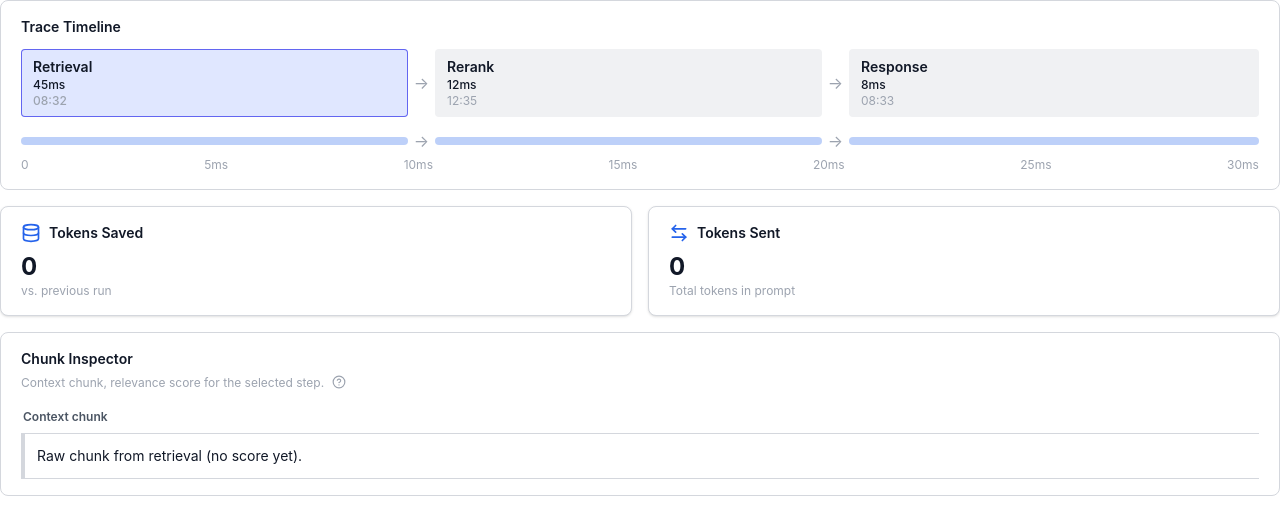
Test case: TraceView › shows sample chunk when Rerank step is selected
The width and height of the screenshot is (1280, 521).
Click the button "Rerank 12ms 12:35" at (471, 66), box left=435, top=49, right=822, bottom=117
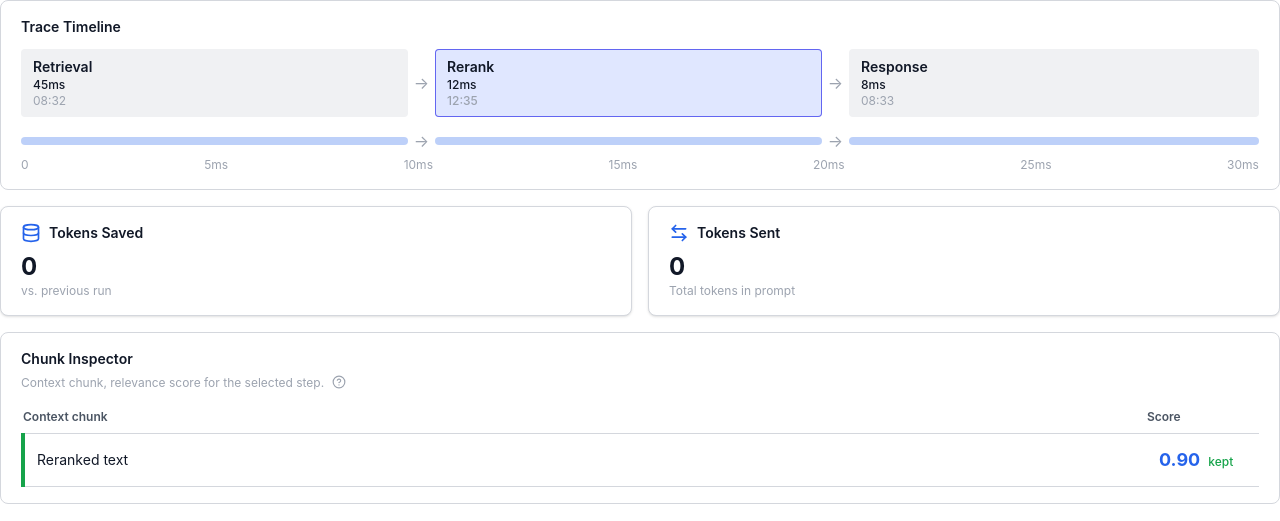
Check: the button "Reranked text" is shown, box left=37, top=450, right=1135, bottom=470
